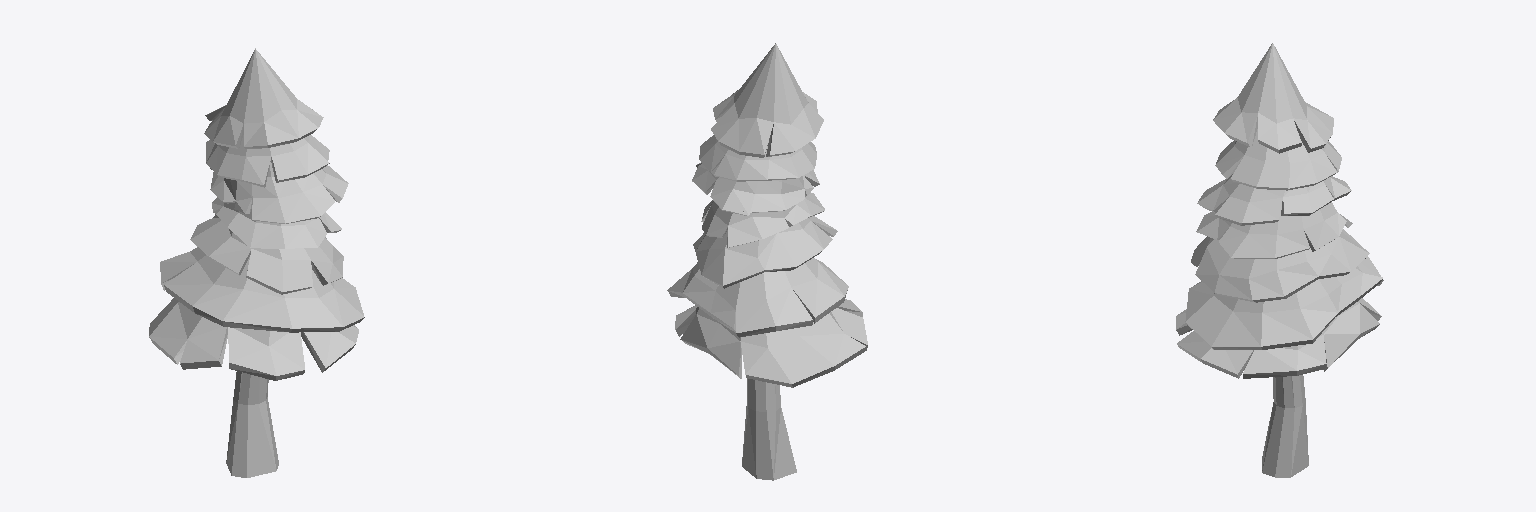
The model's file is Tree_5.obj.
The picture shows the model from 3 angles: view 1: azimuth 30°, elevation 25°; view 2: azimuth 150°, elevation 25°; view 3: azimuth 270°, elevation 25°; orthographic projection.
Parts seen in each view (by area): view 1: Tree_5; view 2: Tree_5; view 3: Tree_5.
Part boxes in pixels (left/top/right/bottom): Tree_5: left=149, top=48, right=364, bottom=477; Tree_5: left=667, top=43, right=867, bottom=480; Tree_5: left=1176, top=43, right=1383, bottom=477.
Size of the model in its own units: 2.52 by 5.64 by 2.51.